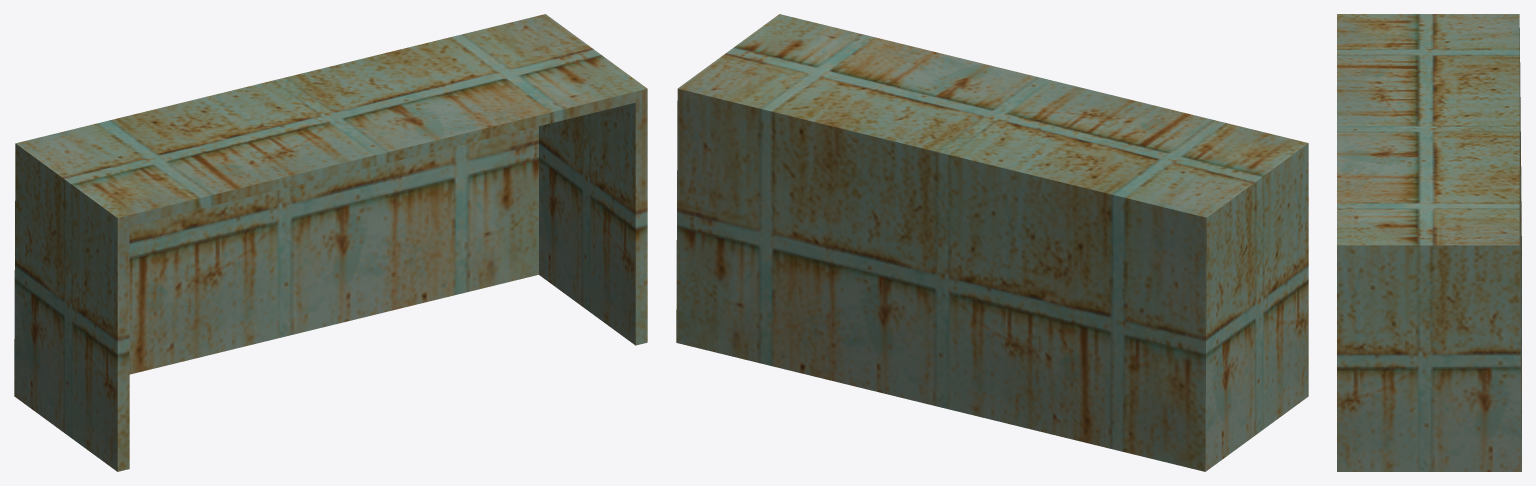
3 views of the same model, side by side, from view 1: azimuth 30°, elevation 25°; view 2: azimuth 150°, elevation 25°; view 3: azimuth 270°, elevation 25° (orthographic). The views are drawn at different scales.
Parts seen in each view (by area): view 1: Cube; view 2: Cube; view 3: Cube.
Part boxes in pixels (x1,y1,x2,y2): Cube: (14, 14, 647, 471); Cube: (676, 14, 1308, 471); Cube: (1337, 14, 1521, 471).
Bounding box in the file's own units: 2116 × 968 × 715.
Materials: 1 (1 with a texture image).
